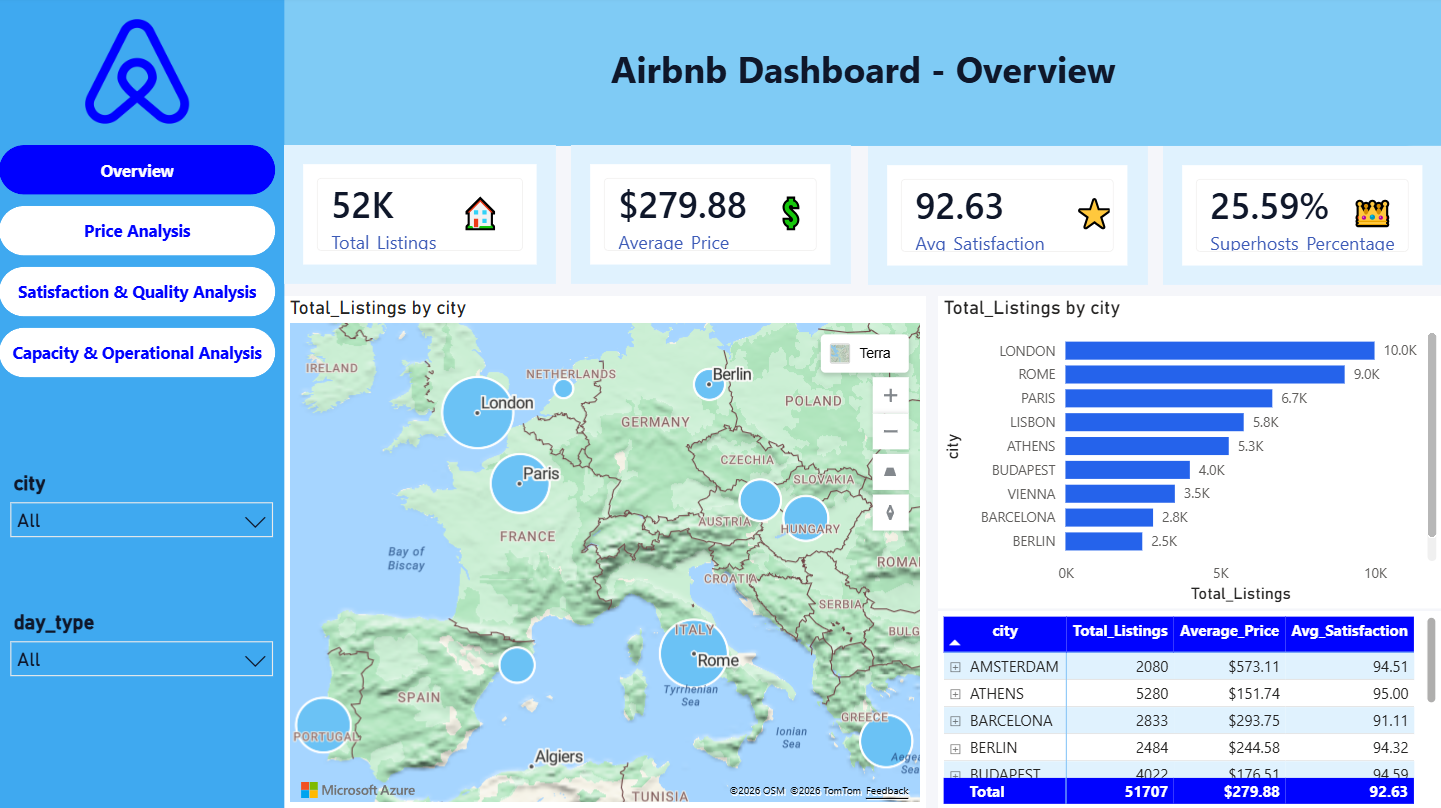

What the dashboard file says about the page in this screenshot:
{"tool":"powerbi","page":{"name":"Overview","canvas":[1280,720],"ordinal":0},"visuals":[{"type":"shape","box":[245.9,0,1034.1,132.2],"z":0},{"type":"textbox","box":[252.7,41.8,1027.3,47.6],"z":1000},{"type":"clusteredBarChart","fields":{"Category":["gold dim_locations.city"],"Y":["gold dim_locations.Total_Listings"]},"box":[832.9,265.3,447.1,277],"z":4000},{"type":"azureMap","fields":{"Category":["gold dim_locations.city"],"Size":["gold dim_locations.Total_Listings"]},"box":[252.7,265.3,568.6,453.9],"z":5000},{"type":"pivotTable","fields":{"Rows":["gold dim_locations.city","gold dim_properties.room_type"],"Values":["gold dim_locations.Total_Listings","gold dim_hosts.Average_Price","gold dim_hosts.Avg_Satisfaction"]},"box":[832.9,544.3,447.1,175.9],"z":6000},{"type":"shape","box":[0,1,252.7,719.2],"z":6500},{"type":"cardVisual","fields":{"Data":["gold dim_locations.Total_Listings"]},"box":[252.7,131.2,241,123.4],"z":7000},{"type":"image","box":[74.8,19.4,96.2,93.3],"z":9000},{"type":"cardVisual","fields":{"Data":["gold dim_hosts.Average_Price"]},"box":[507.3,131.2,247.8,123.4],"z":11000},{"type":"cardVisual","fields":{"Data":["gold dim_hosts.Avg_Satisfaction"]},"box":[770.7,132.2,247.8,123.4],"z":12000},{"type":"cardVisual","fields":{"Data":["gold dim_hosts.Superhosts_Percentage"]},"box":[1032.2,132.2,247.8,123.4],"z":13000},{"type":"textbox","box":[405.3,167.2,41.8,51.5],"z":14000},{"type":"textbox","box":[686.2,167.2,41.8,51.5],"z":15000},{"type":"textbox","box":[947.6,167.2,41.8,51.5],"z":16000},{"type":"textbox","box":[1194.5,167.2,49.6,51.5],"z":17000},{"type":"slicer","fields":{"Values":["gold dim_locations.city"]},"box":[0,415,252.7,94.3],"z":17500},{"type":"slicer","fields":{"Values":["gold fact_listings.day_type"]},"box":[0,538.4,252.7,94.3],"z":18000},{"type":"pageNavigator","box":[0,131.2,245.9,206],"z":18001}]}

Visuals, with their boxes on the page's 1280x720 design canvas (x1, y1, x2, y2). These are canvas units, not pixel positions in the 1441x808 screenshot, which may show the page scaled, cropped or inside an application window:
shape: [246, 0, 1280, 132]
textbox: [253, 42, 1280, 89]
clusteredBarChart - gold dim_locations.city x gold dim_locations.Total_Listings: [833, 265, 1280, 542]
azureMap - gold dim_locations.city x gold dim_locations.Total_Listings: [253, 265, 821, 719]
pivotTable - gold dim_locations.city x gold dim_properties.room_type: [833, 544, 1280, 720]
shape: [0, 1, 253, 720]
cardVisual - gold dim_locations.Total_Listings: [253, 131, 494, 255]
image: [75, 19, 171, 113]
cardVisual - gold dim_hosts.Average_Price: [507, 131, 755, 255]
cardVisual - gold dim_hosts.Avg_Satisfaction: [771, 132, 1018, 256]
cardVisual - gold dim_hosts.Superhosts_Percentage: [1032, 132, 1280, 256]
textbox: [405, 167, 447, 219]
textbox: [686, 167, 728, 219]
textbox: [948, 167, 989, 219]
textbox: [1194, 167, 1244, 219]
slicer - gold dim_locations.city: [0, 415, 253, 509]
slicer - gold fact_listings.day_type: [0, 538, 253, 633]
pageNavigator: [0, 131, 246, 337]
